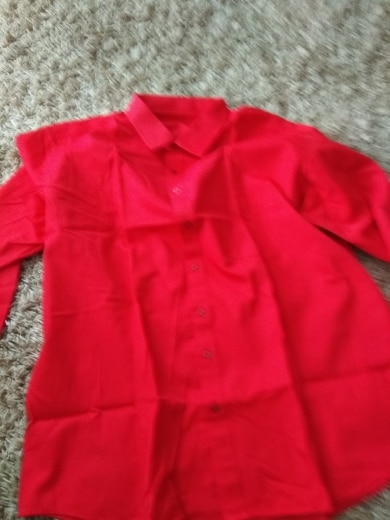shirts: (12, 97, 390, 501)
